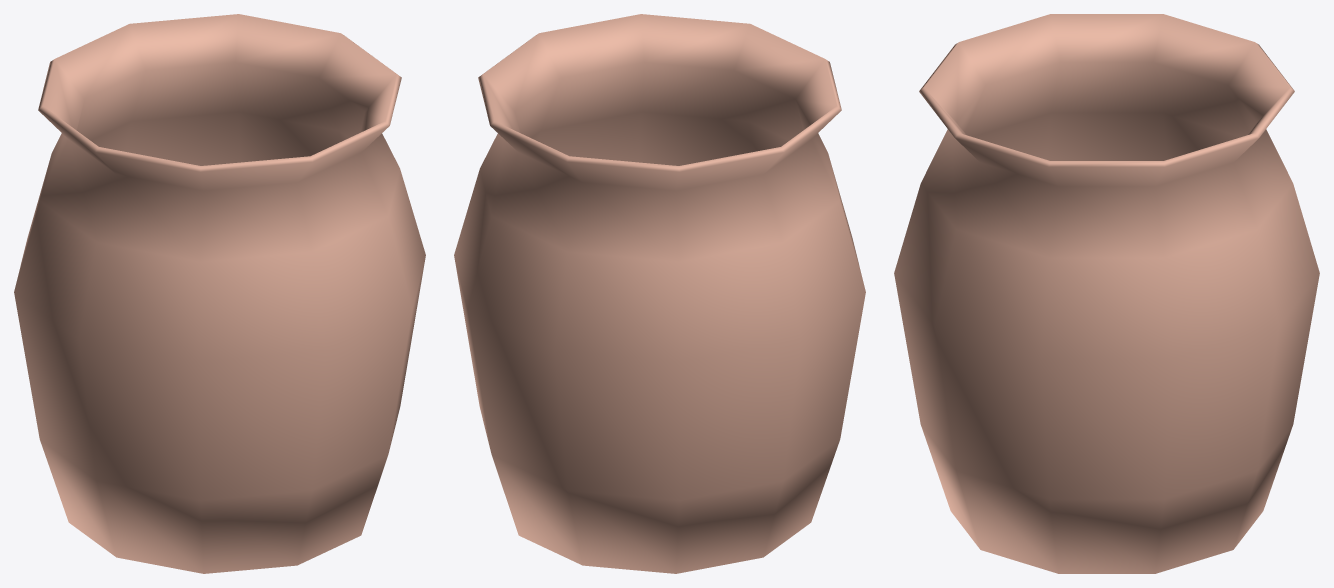
Rendered from Çömlek.fbx.
3 views of the same model, side by side, from view 1: azimuth 30°, elevation 25°; view 2: azimuth 150°, elevation 25°; view 3: azimuth 270°, elevation 25° (orthographic).
Parts seen in each view (by area): view 1: Çömlek; view 2: Çömlek; view 3: Çömlek.
Boxes of the visible parts, <box> form: Çömlek: <box>14,14,425,573</box>; Çömlek: <box>454,14,865,573</box>; Çömlek: <box>894,14,1319,573</box>.
Bounding box in the file's own units: 0.363 × 0.419 × 0.3817.
